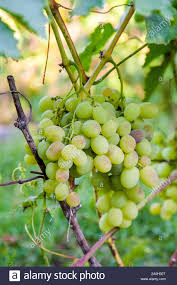grapes: (42, 87, 149, 232)
